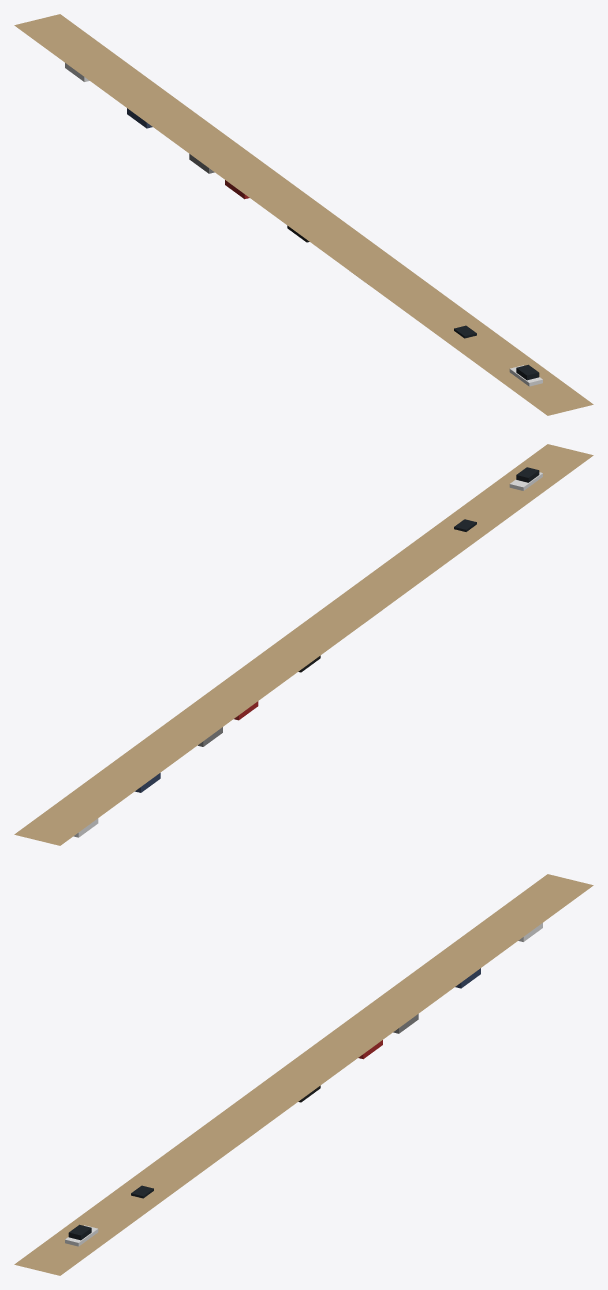
The model's file is arashi_roadpark.glb.
The picture shows the model from 3 angles, top to bottom: view 1: azimuth 30°, elevation 25°; view 2: azimuth 150°, elevation 25°; view 3: azimuth 330°, elevation 25°; orthographic projection.
Visible parts, largest first — view 1: arashi_roadpark_lod0; view 2: arashi_roadpark_lod0; view 3: arashi_roadpark_lod0.
Boxes of the visible parts, <box> form: arashi_roadpark_lod0: <box>14,14,593,415</box>; arashi_roadpark_lod0: <box>14,444,593,845</box>; arashi_roadpark_lod0: <box>14,874,593,1275</box>.
Size of what is drawn, in the model's own units: 6.01 by 3.79 by 120.
